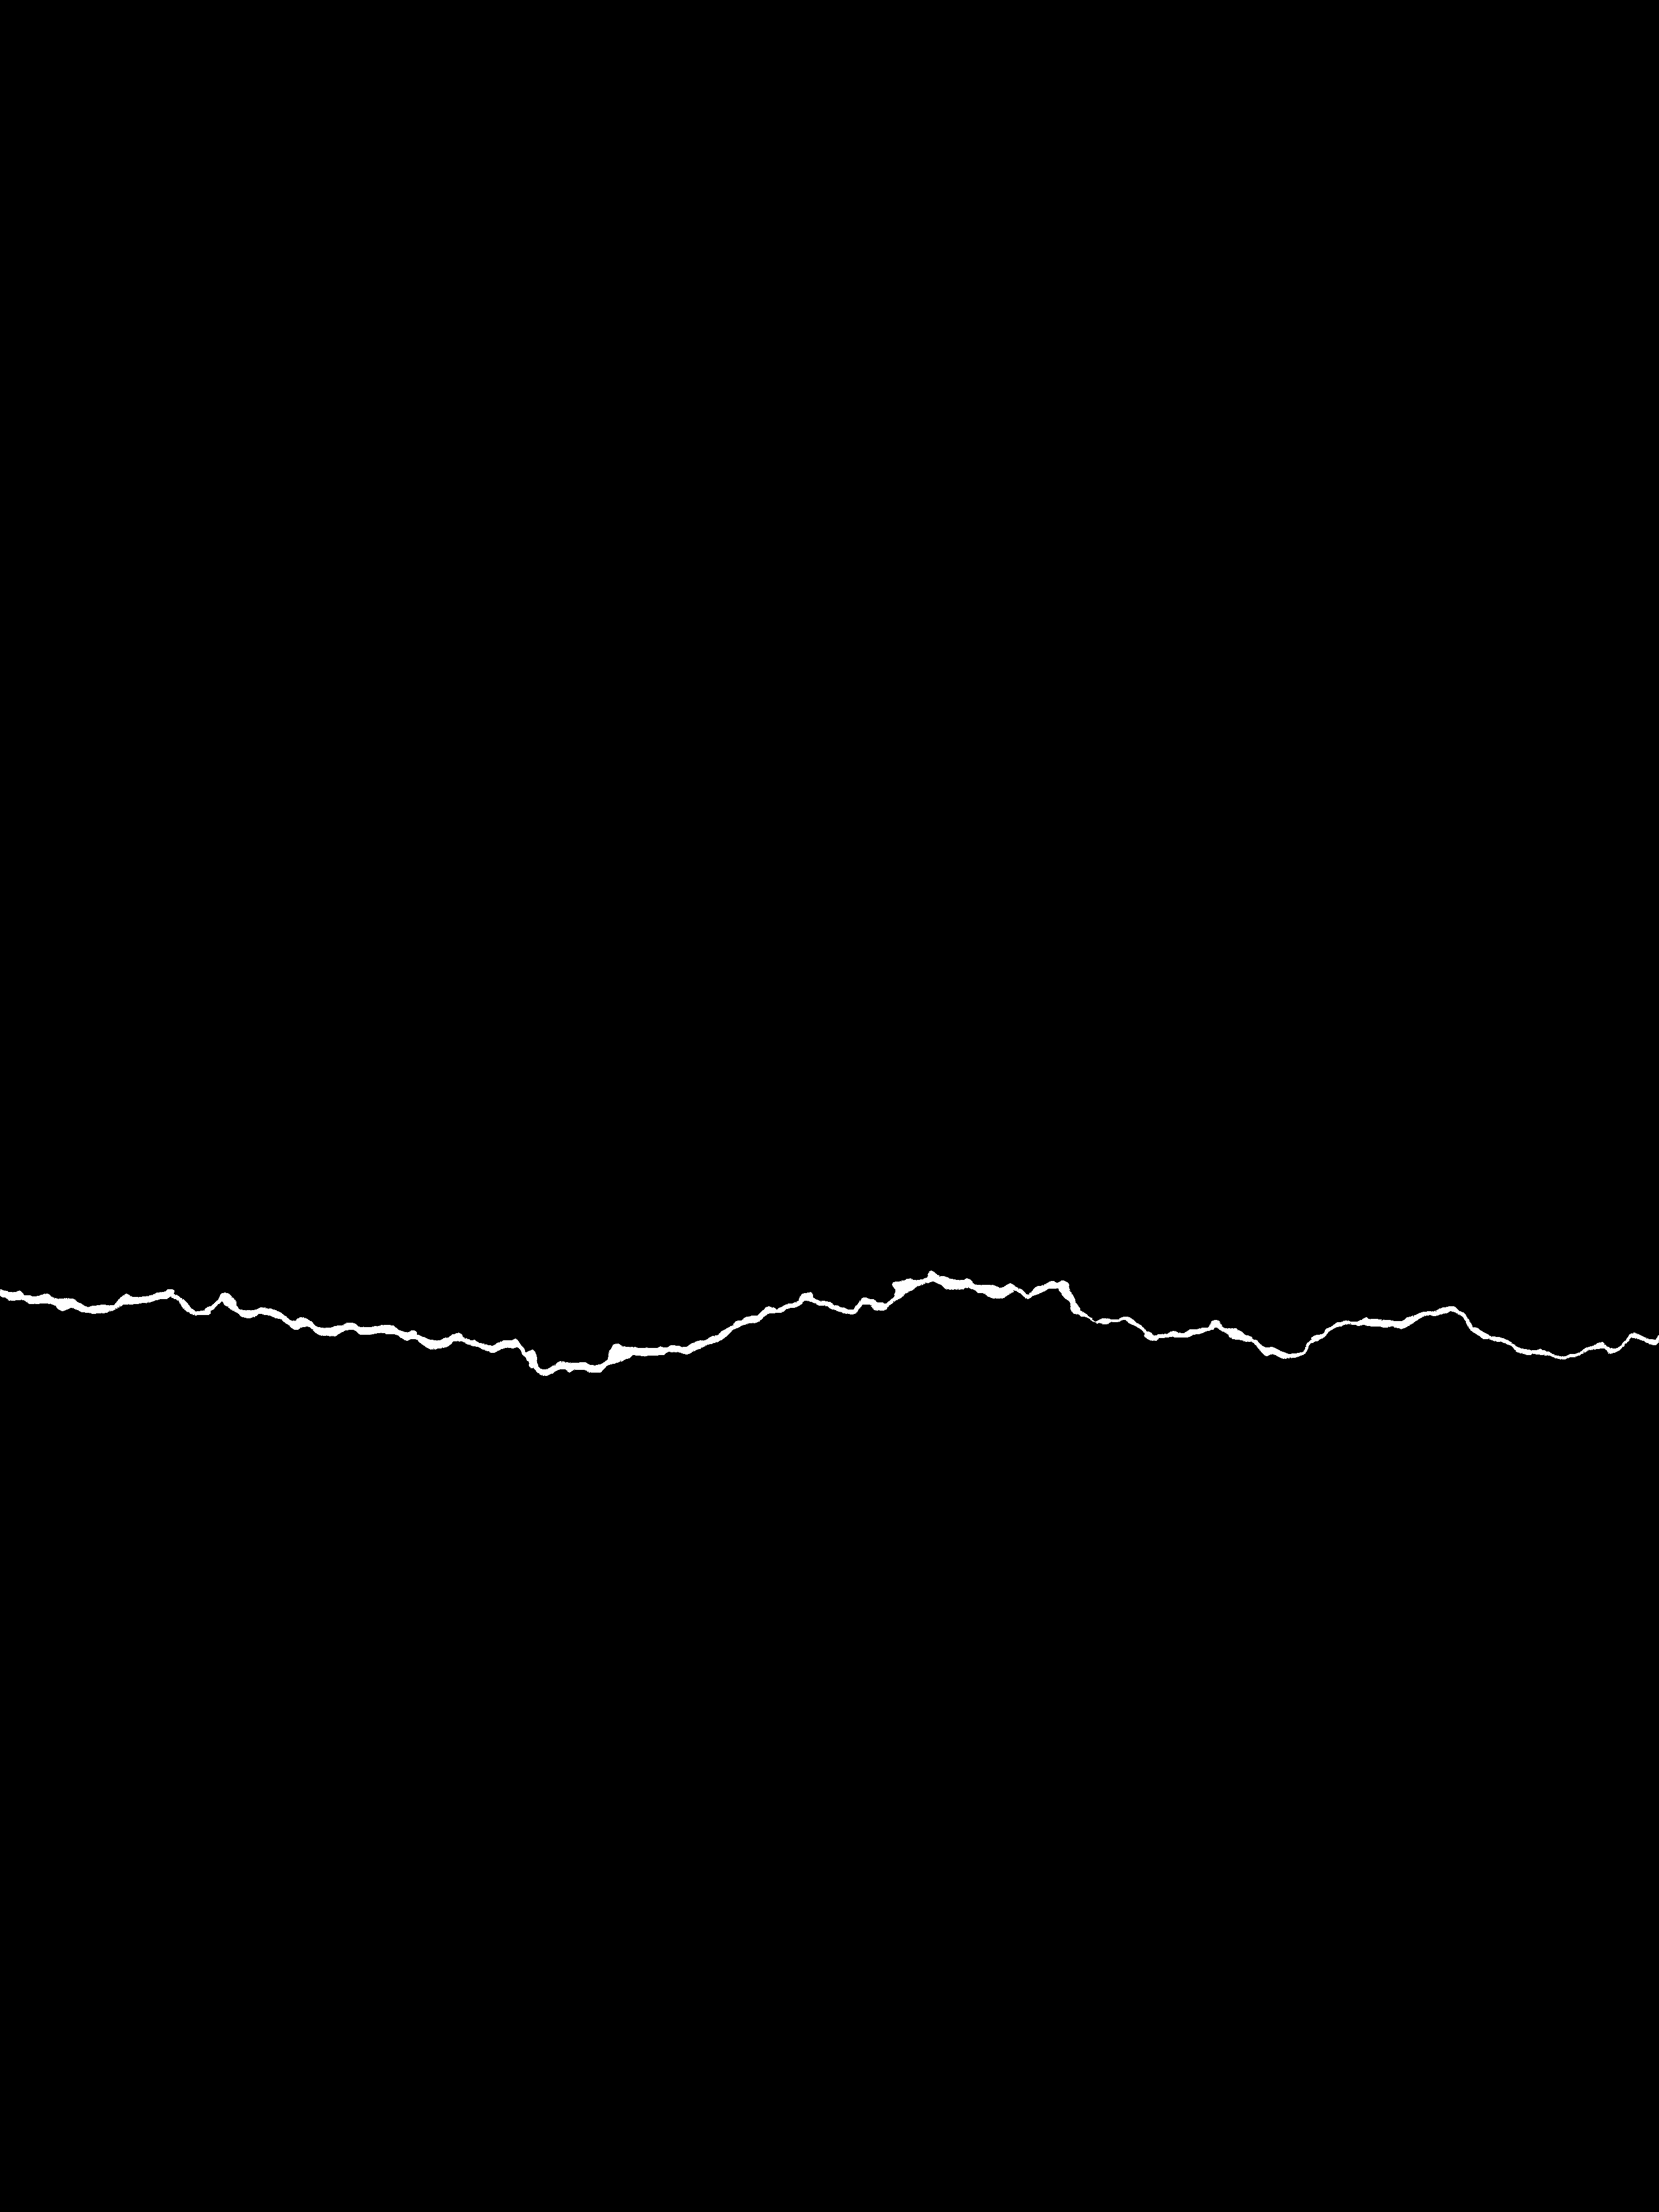Crack: (0, 1240, 1659, 1393)
